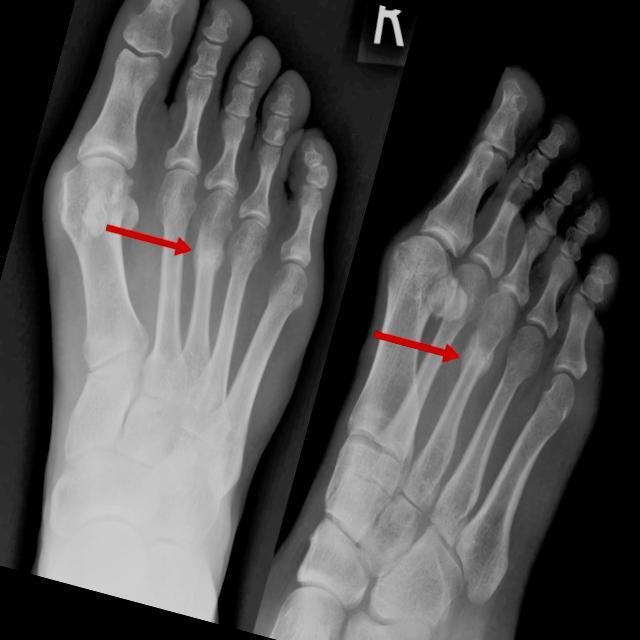HairLine Fracture: (193, 224, 225, 276), (464, 333, 491, 379)
